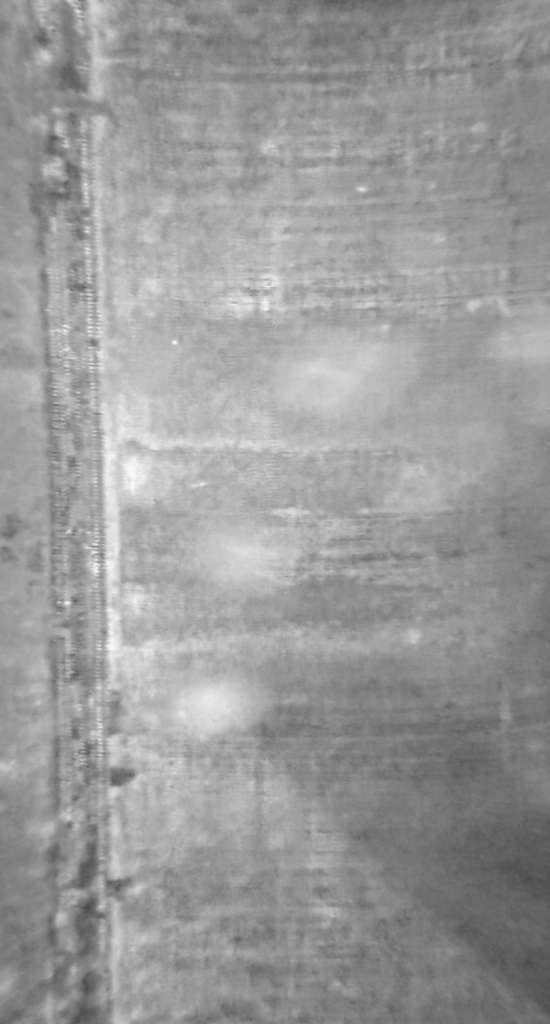splice: (24, 4, 118, 1024)
